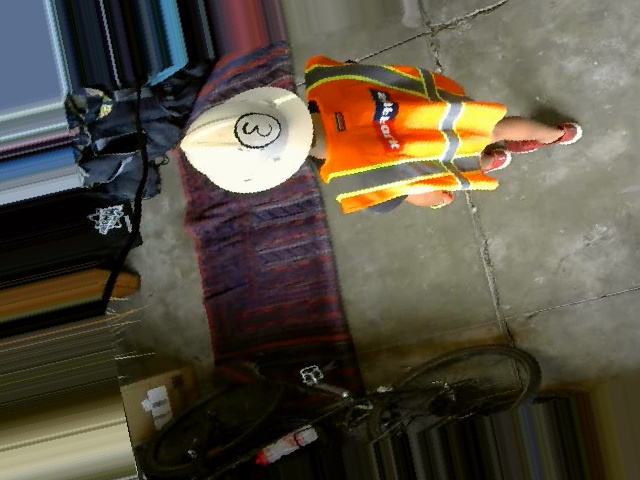three: (230, 106, 282, 153)
